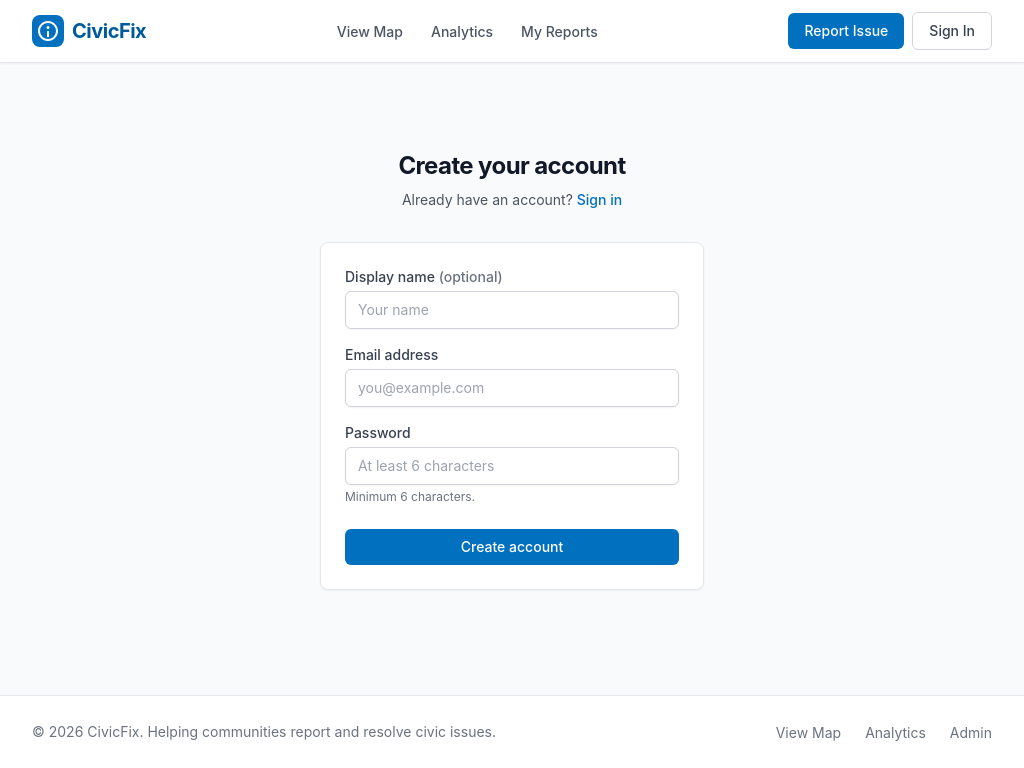
it: Citizen authentication › handles Supabase email confirmation required state on sign-up
This screenshot has width=1024, height=768.
Step 1. Type "New Citizen" into the field labelled "Display name (optional)" → (512, 310), box [345,291,679,329]
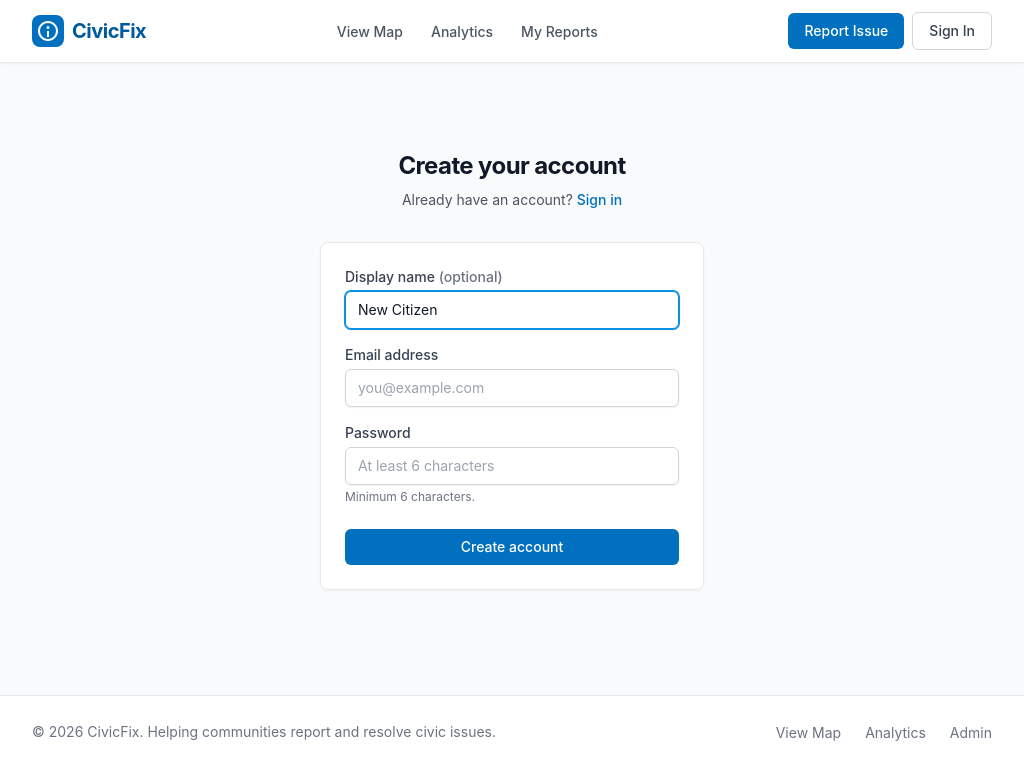
Step 2. Type "new@example.com" into the field labelled "Email address" → (512, 388), box [345,369,679,407]
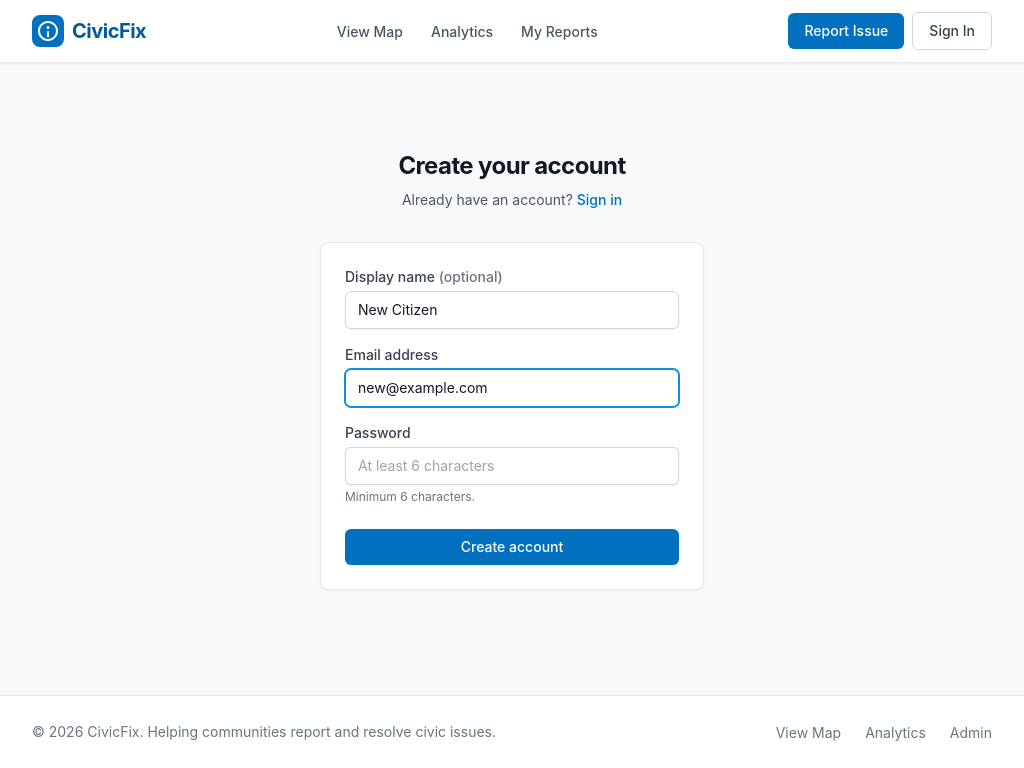
Step 3. Type "secret123" into the password field labelled "Password" → (512, 466), box [345,447,679,485]
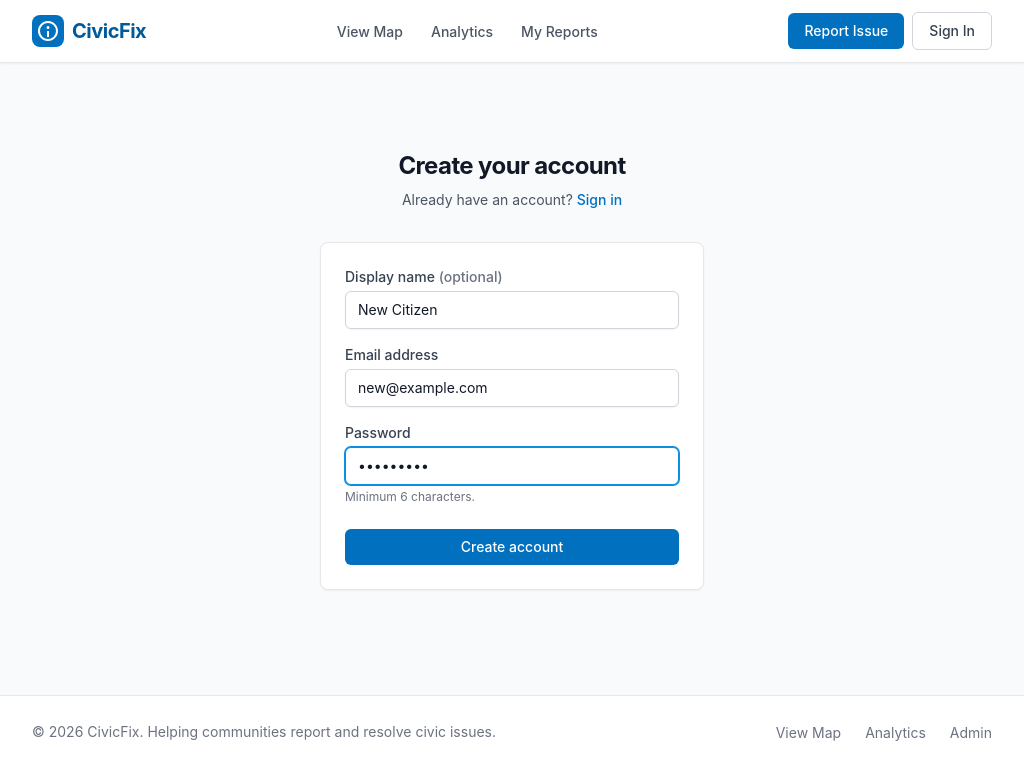
Step 4. Click the button "Create account" → (512, 547), box [345,529,679,565]
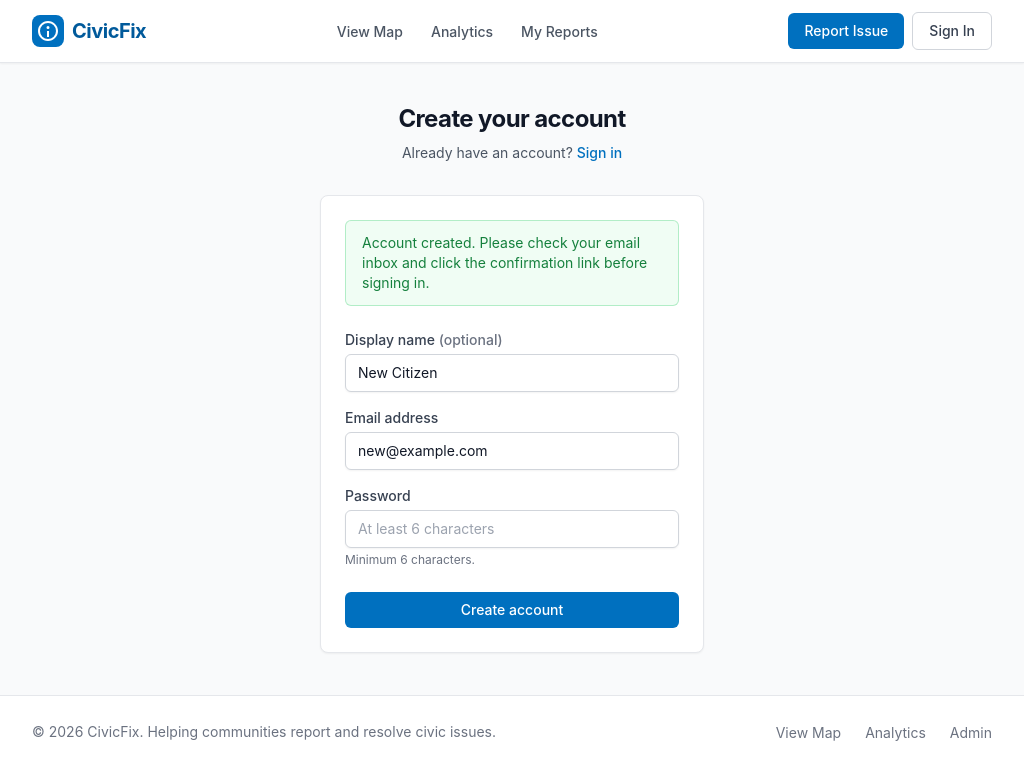
Expected: the text "check your email inbox" is shown, [362,234,647,291]
